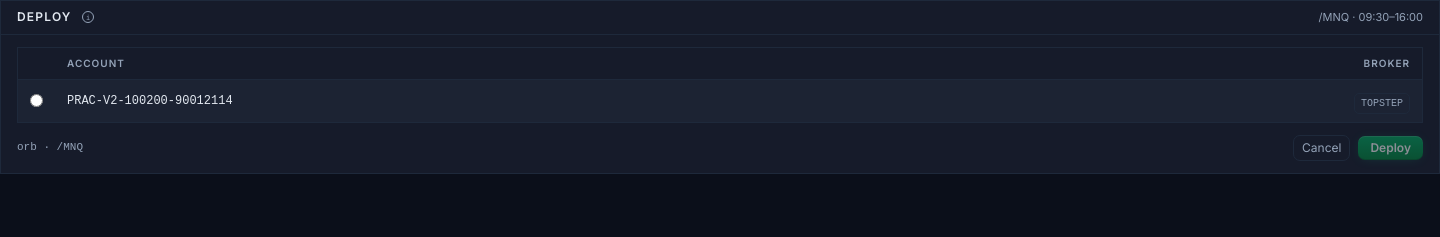
an engine start that fails after the create › says the row is still Active when the rollback did not land
Click the radio button named "PRAC-V2-100200-90012114": (36, 100) [30, 94, 43, 106]
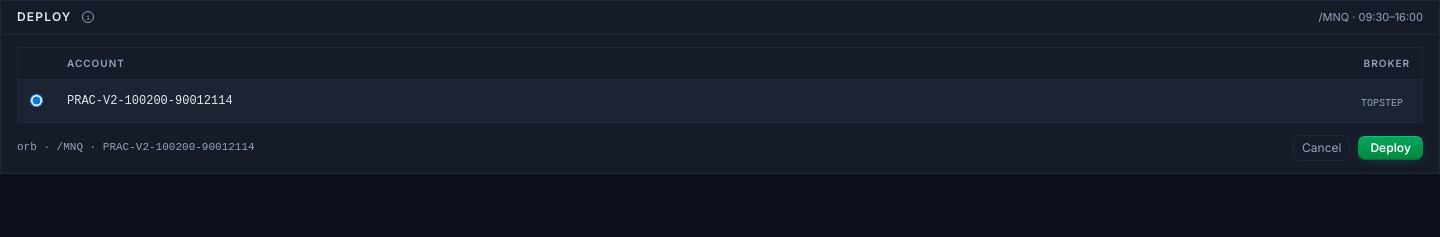
Click the button "Deploy": (1391, 148) [1358, 136, 1423, 160]
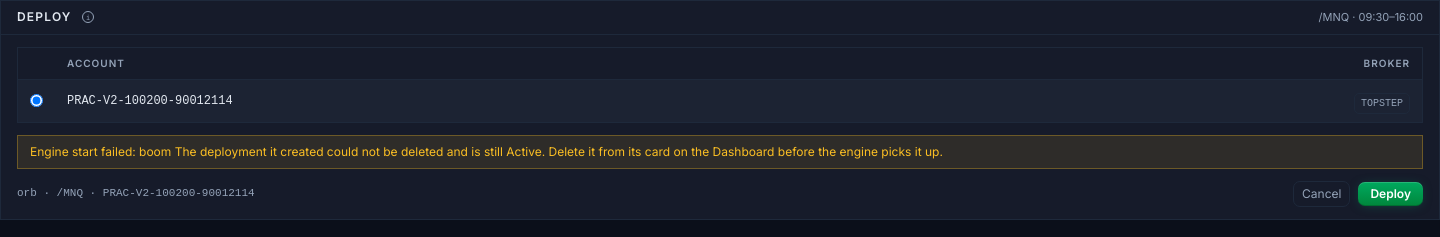
Now the text "Engine start failed: boom" is shown, box [30, 144, 943, 158]
